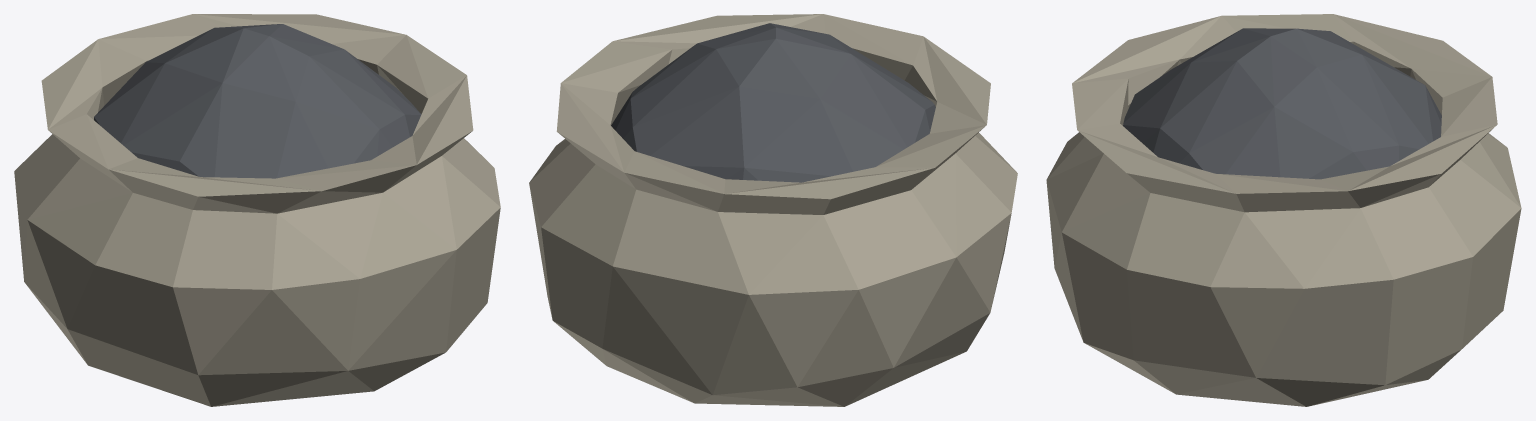
The model's file is fat pepper pot.glb.
3 views of the same model, side by side, from view 1: azimuth 30°, elevation 25°; view 2: azimuth 150°, elevation 25°; view 3: azimuth 270°, elevation 25° (orthographic).
Visible parts, largest first — view 1: Cube, Cube.001; view 2: Cube, Cube.001; view 3: Cube, Cube.001.
Boxes of the visible parts, x1,y1,x2,y2 form: Cube: [14, 14, 500, 406]; Cube.001: [94, 24, 421, 178]; Cube: [529, 14, 1017, 406]; Cube.001: [611, 23, 935, 182]; Cube: [1046, 14, 1521, 406]; Cube.001: [1123, 28, 1441, 179].
Size of the model in its own units: 0.9551 by 0.6962 by 0.9551.
